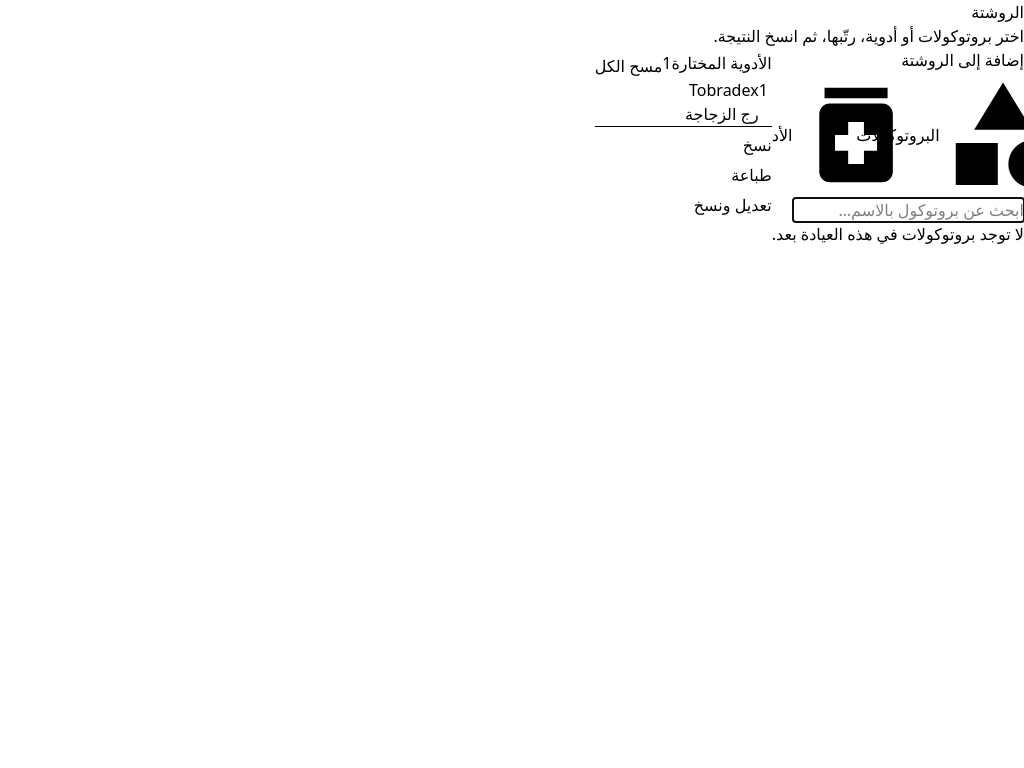
it: the pop-up @area:prescription › a static text or a function asks nothing: only manual inputs have fields @TPL-110
Click the button "طباعة" at {"x": 752, "y": 175}, box x1=731 y1=163 x2=772 y2=187
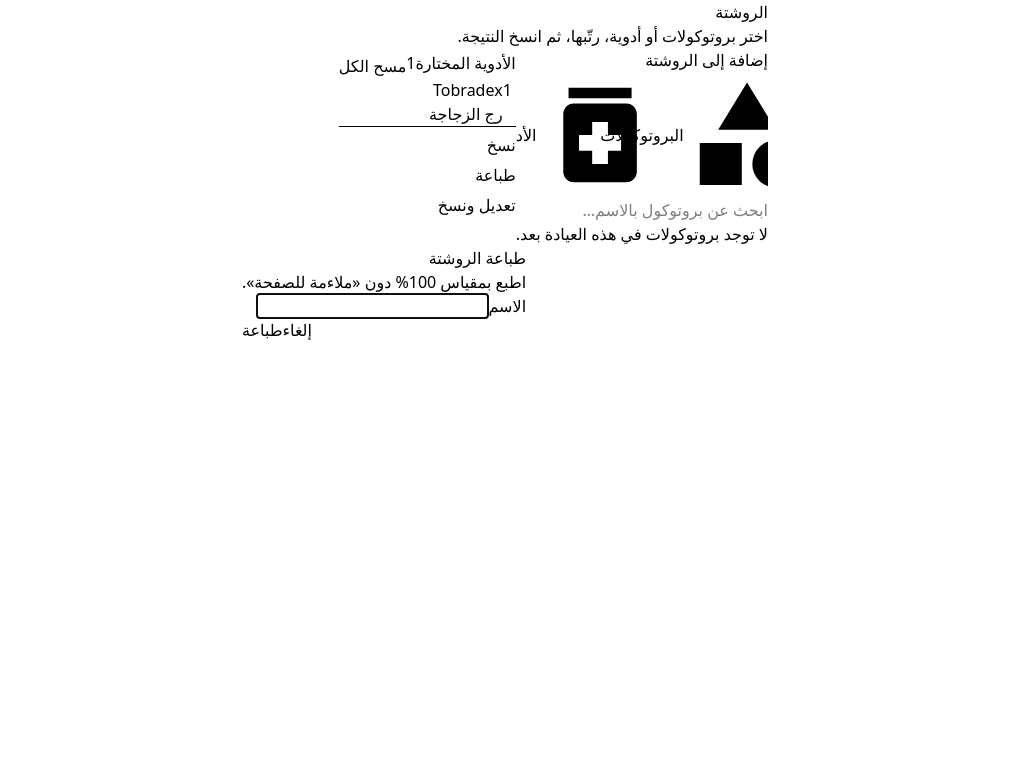
Expected: the number of fields is 1, x1=258 y1=294 x2=488 y2=318
